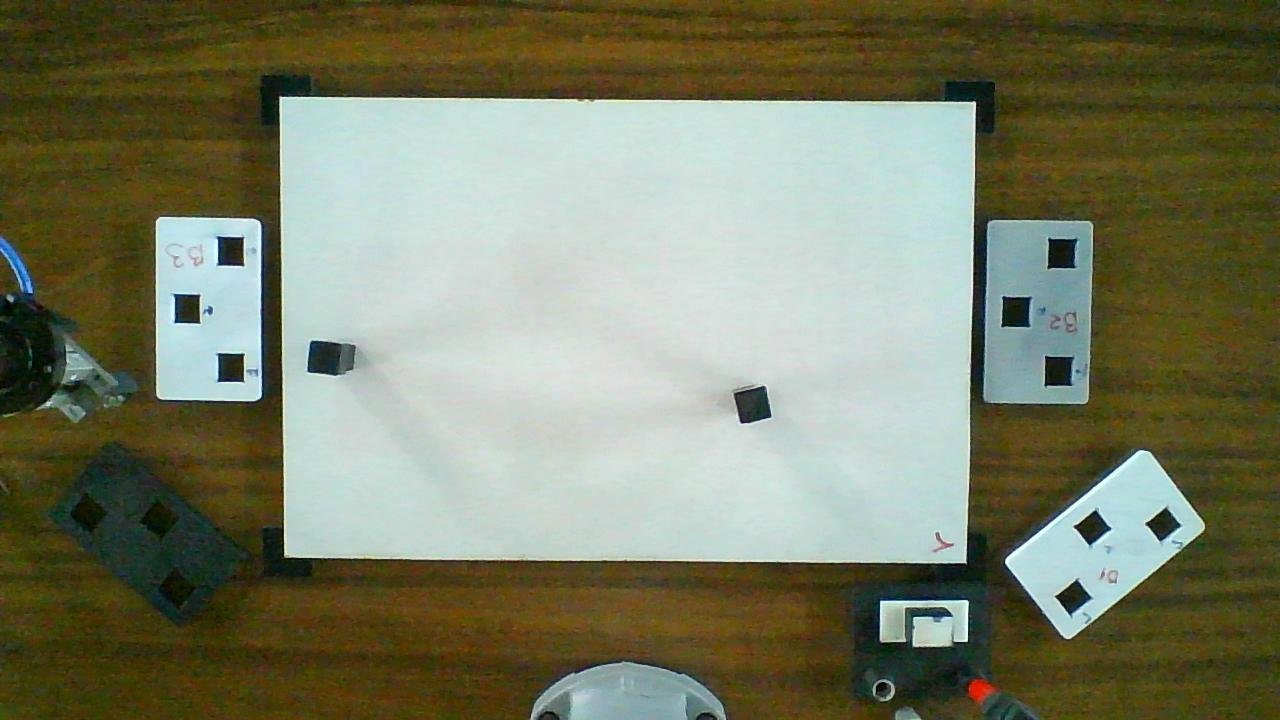peca_preta: (735, 387, 771, 423), (308, 342, 340, 375)
